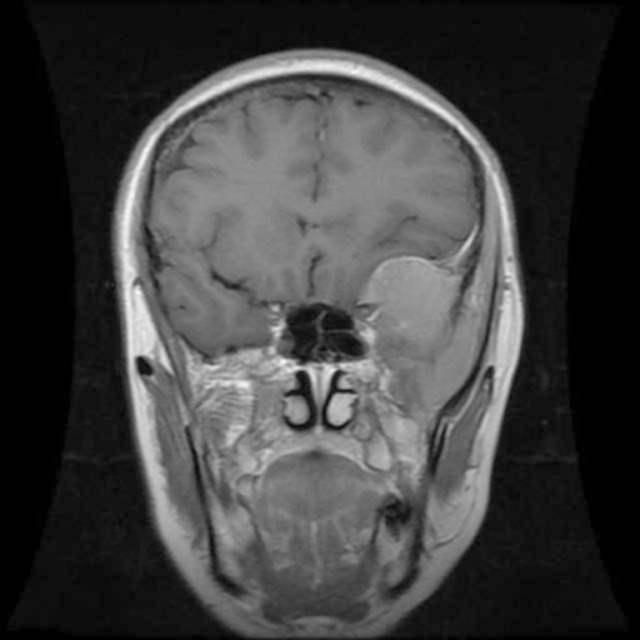meningioma tumor: (347, 258, 472, 388)
